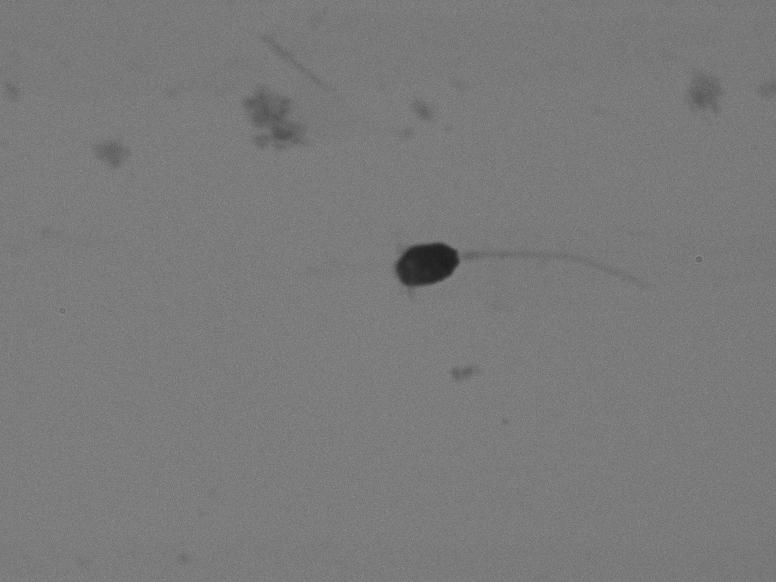Abnormal: (375, 208, 704, 338)
